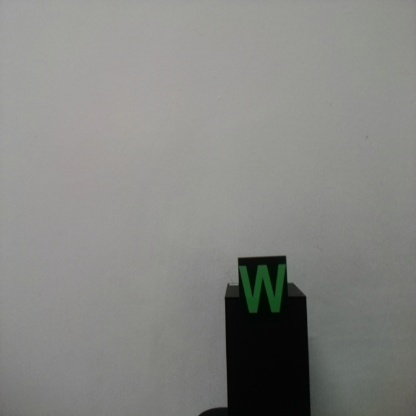id_12: (238, 258, 288, 327)
